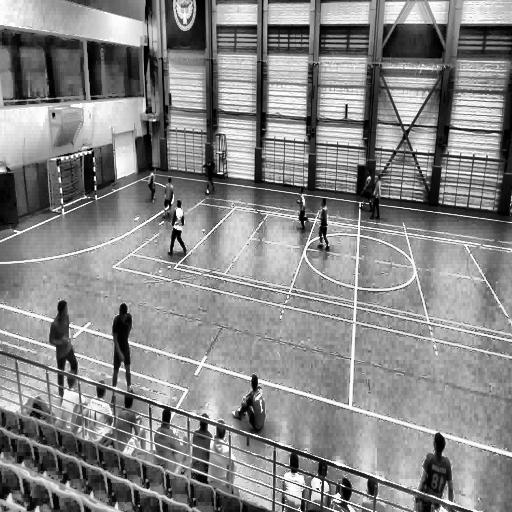ball: (204, 189, 210, 198)
player: (50, 300, 77, 401), (232, 373, 266, 443), (112, 302, 134, 396), (168, 199, 187, 256), (159, 177, 174, 222), (369, 173, 382, 222), (318, 197, 330, 250), (360, 171, 373, 214), (298, 187, 308, 231), (205, 156, 216, 194), (147, 166, 157, 204)
